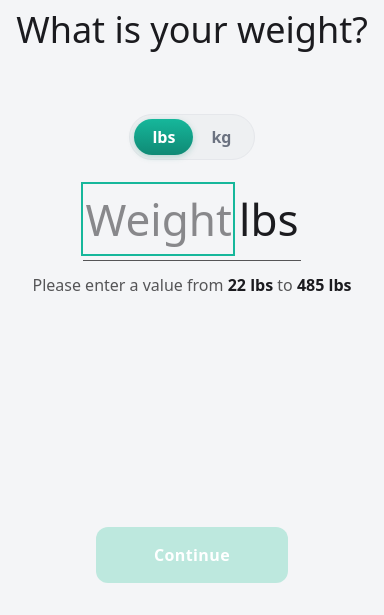
WeightPage — current step › Continue becomes enabled after entering a valid weight
The image size is (384, 615).
Type "150" into the field named "Your weight in lbs". click: [158, 219]
box: [85,186,231,252]
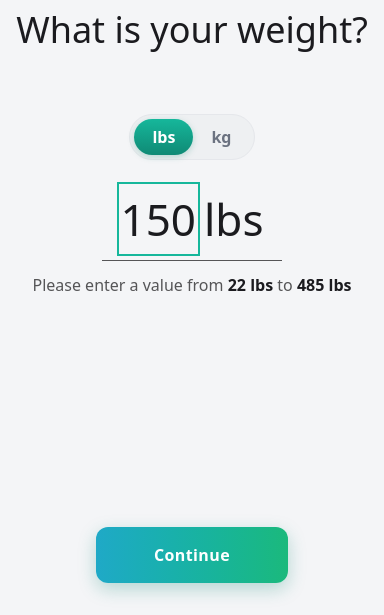
Now the button "Continue" is enabled, box [96,527,288,583]
